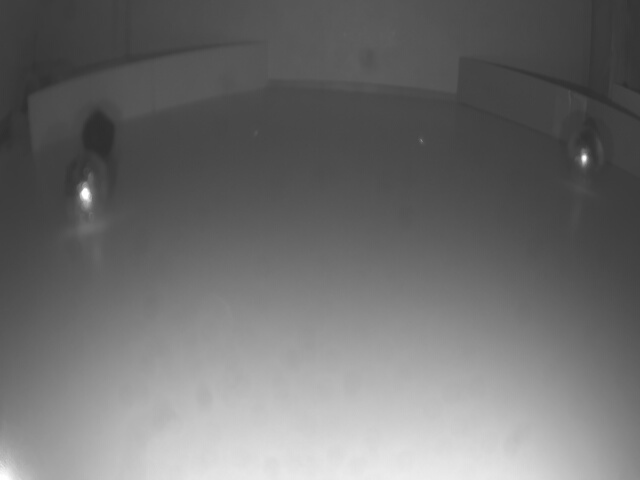Dead: (85, 113, 118, 155)
Live: (64, 150, 122, 220), (567, 122, 608, 181)
Point: (33, 41, 269, 155), (456, 56, 640, 171)
